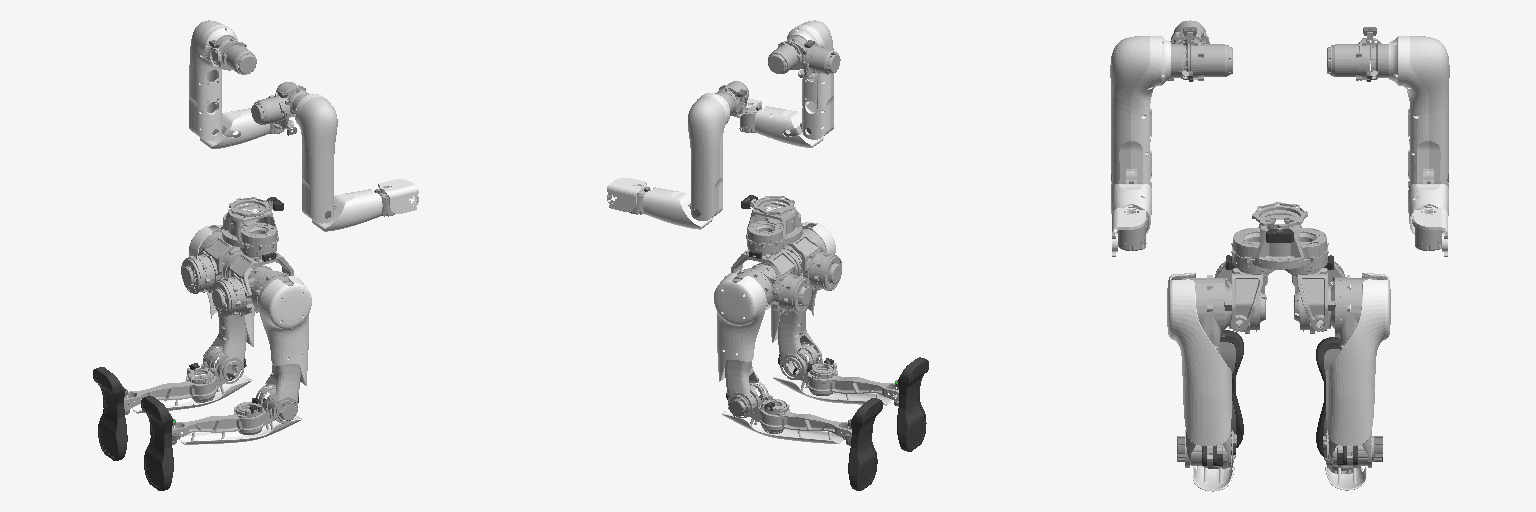
--- What the picture shows (computed from the rendered views, not written in the file) ---
3 views of the same robot in one strip: view 1: azimuth 30°, elevation 25°; view 2: azimuth 150°, elevation 25°; view 3: azimuth 270°, elevation 25° (orthographic).
Robot: DR01_v101 — 35 links, 34 joints (27 revolute, 7 fixed); root link SACRUM; default pose: all joints at 0 but 2 set to mid-range because 0 is outside their limits (Knee_R = 1.52, Knee_L = 1.48).
Visible links, largest first — view 1: THIGH_R, UPPERARM_R, UPPERARM_L, SHANK_L, SHANK_R, SACRUM, THIGH_L, FOOT_R, FOOT_L, ILIUM_R, ILIUM_L, FOREARM_R (+4 smaller); view 2: THIGH_L, UPPERARM_L, SHANK_R, SHANK_L, SACRUM, UPPERARM_R, THIGH_R, FOOT_R, FOOT_L, ILIUM_L, ILIUM_R, FOREARM_L (+5 smaller); view 3: THIGH_R, THIGH_L, UPPERARM_R, UPPERARM_L, SACRUM, ILIUM_R, ILIUM_L, SHANK_R, SHANK_L, SHOULDER_L, SHOULDER_R, FOOT_R (+8 smaller).
Boxes of the visible links, x1,y1,x2,y2 form: THIGH_R: (251,271,311,423); UPPERARM_R: (290,92,337,223); UPPERARM_L: (189,20,237,140); SHANK_L: (124,348,252,413); SHANK_R: (172,387,302,444); SACRUM: (221,197,283,261); THIGH_L: (189,225,254,383); FOOT_R: (141,396,179,490); FOOT_L: (93,367,129,460); ILIUM_R: (212,250,293,316); ILIUM_L: (181,235,261,293); FOREARM_R: (312,189,382,231); THIGH_L: (714,268,772,417); UPPERARM_L: (688,91,734,220); SHANK_R: (773,344,898,405); SHANK_L: (722,383,851,443); SACRUM: (741,195,802,258); UPPERARM_R: (787,20,833,139); THIGH_R: (770,222,835,379); FOOT_R: (894,357,928,451); FOOT_L: (843,398,882,490); ILIUM_L: (731,243,811,313); ILIUM_R: (761,232,841,290); FOREARM_L: (643,187,712,229); THIGH_R: (1167,273,1232,467); THIGH_L: (1326,273,1390,467); UPPERARM_R: (1110,36,1192,187); UPPERARM_L: (1367,36,1449,187); SACRUM: (1226,202,1333,274); ILIUM_R: (1214,261,1272,331); ILIUM_L: (1287,261,1344,331); SHANK_R: (1186,431,1236,491); SHANK_L: (1323,433,1373,490); SHOULDER_L: (1327,27,1381,80); SHOULDER_R: (1178,27,1232,80); FOOT_R: (1220,330,1243,447).
Bounding box of the posed robot: 0.6737 × 0.6499 × 1.07 m (x, y, z).
24 mesh visuals loaded from 26 distinct referenced files (22 Collada DAE); not drawn: 4 (reference not matched to a file when rendering).

The robot description file, URDF, robot "DR01_v101":
<?xml version='1.0' encoding='utf-8'?>
<robot name="DR01_v101">
  <link name="SACRUM">
    <inertial>
      <origin xyz="0.0010 -2.1928E-05 -0.0252" />
      <mass value="3.2422" />
      <inertia ixx="0.0101" ixy="-8.7E-07" ixz="-0.0002" iyy="0.0055" iyz="-2.8E-07" izz="0.0100" />
    </inertial>
    <visual>
      <geometry>
        <mesh filename="../meshes/SACRUM.dae" />
      </geometry>
    </visual>
  </link>

  <link name="ILIUM_R">
    <inertial>
      <origin xyz="-0.0752 -0.0297 0.0117" />
      <mass value="1.6695" />
      <inertia ixx="0.0031" ixy="-0.0003" ixz="-0.0014" iyy="0.0064" iyz="-0.0003" izz="0.0054" />
    </inertial>
    <visual>
      <geometry>
        <mesh filename="../meshes/ILIUM_R.dae" />
      </geometry>
    </visual>
    <collision>
      <origin xyz="-0.129 -0.032 0" rpy="0 1.57 0" />
      <geometry>
        <cylinder length="0.02" radius="0.046" />
      </geometry>
    </collision>
  </link>

  <joint name="Hip_Z_R" type="revolute">
    <origin xyz="0 -0.045 -0.1505" />
    <parent link="SACRUM" />
    <child link="ILIUM_R" />
    <axis xyz="0 0 -1" />
    <limit lower="-0.21" upper="0.216" effort="84" velocity="7.85" />
    <dynamics damping="0" friction="0" />
  </joint>

  <link name="ISCHIUM_R">
    <inertial>
      <origin xyz="-0.0061 0.0083 -0.0004" />
      <mass value="1.489" />
      <inertia ixx="0.0012" ixy="-8.78E-05" ixz="0" iyy="0.0022" iyz="-7.68E-06" izz="0.0017" />
    </inertial>
    <visual>
      <geometry>
        <mesh filename="../meshes/ISCHIUM_R.dae" />
      </geometry>
    </visual>
  </link>

  <joint name="Hip_X_R" type="revolute">
    <origin xyz="0 -0.0325 0" />
    <parent link="ILIUM_R" />
    <child link="ISCHIUM_R" />
    <axis xyz="-1 0 0" />
    <limit lower="-0.204" upper="0.370" effort="84" velocity="7.85" />
    <dynamics damping="0" friction="0" />
  </joint>

  <link name="THIGH_R">
    <inertial>
      <origin xyz="0.0048 -0.0279 -0.0394" />
      <mass value="3.5319" />
      <inertia ixx="0.0286" ixy="-0.0001" ixz="0.0018" iyy="0.0293" iyz="0.0014" izz="0.0059" />
    </inertial>
    <visual>
      <geometry>
        <mesh filename="../meshes/THIGH_R.dae" />
      </geometry>
    </visual>
    <collision>
      <origin xyz="0.03 -0.02 -0.18" />
      <geometry>
        <cylinder length="0.23" radius="0.06" />
      </geometry>
    </collision>
    <collision>
      <origin xyz="0 -0.04 0" rpy="1.57 0 0" />
      <geometry>
        <cylinder length="0.10" radius="0.072" />
      </geometry>
    </collision>
  </link>

  <joint name="Hip_Y_R" type="revolute">
    <origin xyz="0 -0.0432 0" />
    <parent link="ISCHIUM_R" />
    <child link="THIGH_R" />
    <axis xyz="0 1 0" />
    <limit lower="-2.215" upper="0.125" effort="84" velocity="7.85" />
    <dynamics damping="0" friction="0" />
  </joint>

  <link name="SHANK_R">
    <inertial>
      <origin xyz="0.0106 -0.0096 -0.0512" />
      <mass value="2.7397" />
      <inertia ixx="0.0149" ixy="-0.0003" ixz="0.0006" iyy="0.0146" iyz="0.0007" izz="0.0032" />
    </inertial>
    <visual>
      <geometry>
        <mesh filename="../meshes/SHANK_R.dae" />
      </geometry>
    </visual>
    <collision>
      <origin xyz="0.02 0 -0.18" rpy="0 0.3 0" />
      <geometry>
        <cylinder length="0.14" radius="0.02" />
      </geometry>
    </collision>
    <collision>
      <origin xyz="0.03 0 -0.08" rpy="0 1.57 0" />
      <geometry>
        <cylinder length="0.06" radius="0.038" />
      </geometry>
    </collision>
  </link>

  <joint name="Knee_R" type="revolute">
    <origin xyz="0 0 -0.3" />
    <parent link="THIGH_R" />
    <child link="SHANK_R" />
    <axis xyz="0 1 0" />
    <limit lower="0.34" upper="2.70" effort="180" velocity="12" />
    <dynamics damping="0" friction="0" />
  </joint>

  <link name="ASTRAGALUS_R">
    <inertial>
      <origin xyz="-0.0144 -3.454E-05 0.0058" />
      <mass value="0.0686" />
      <inertia ixx="8.86E-06" ixy="-2E-08" ixz="5.49E-07" iyy="0" iyz="4E-08" izz="0" />
    </inertial>
    <visual>
      <geometry>
        <mesh filename="../meshes/ASTRAGALUS.dae" />
      </geometry>
    </visual>
  </link>

  <joint name="Ankle_Y_R" type="revolute">
    <origin xyz="0 0 -0.3" />
    <parent link="SHANK_R" />
    <child link="ASTRAGALUS_R" />
    <axis xyz="0 1 0" />
    <limit lower="-1.0" upper="0.19" effort="200" velocity="14.65" />
    <dynamics damping="0" friction="0" />
  </joint>

  <link name="FOOT_R">
    <inertial>
      <origin xyz="-5.1084E-10 -0.0011 -0.0247" />
      <mass value="0.2330" />
      <inertia ixx="0.0001" ixy="-2.5096E-10" ixz="8.0022E-13" iyy="0.0006" iyz="3.92E-06" izz="0.0007" />
    </inertial>
    <visual>
      <geometry>
        <mesh filename="../meshes/FOOT_R.dae" />
      </geometry>
    </visual>
  </link>

  <joint name="Ankle_X_R" type="revolute">
    <parent link="ASTRAGALUS_R" />
    <child link="FOOT_R" />
    <axis xyz="-1 0 0" />
    <limit lower="-0.20" upper="0.24" effort="200" velocity="14.65" />
    <dynamics damping="0" friction="0" />
  </joint>

  <link name="TIPTOE_R">
    <inertial>
      <origin xyz="0.001 0.001 -0.0053" />
      <mass value="0.1929" />
      <inertia ixx="0.0001" ixy="0" ixz="0" iyy="0.0008" iyz="0" izz="0.0009" />
    </inertial>
    <collision>
      <origin xyz="0.02 0 -0.01" />
      <geometry>
        <box size="0.24 0.08 0.03" />
      </geometry>
    </collision>
  </link>

  <joint name="Ankle_Z_R" type="fixed">
    <origin xyz="0 0 -0.031" />
    <parent link="FOOT_R" />
    <child link="TIPTOE_R" />
  </joint>

  <link name="ILIUM_L">
    <inertial>
      <origin xyz="-0.0752 0.0297 0.0118" />
      <mass value="1.6675" />
      <inertia ixx="0.0031" ixy="0.0003" ixz="-0.0014" iyy="0.0064" iyz="0.0003" izz="0.0054" />
    </inertial>
    <visual>
      <geometry>
        <mesh filename="../meshes/ILIUM_L.dae" />
      </geometry>
    </visual>
    <collision>
      <origin xyz="-0.129 0.032 0" rpy="0 1.57 0" />
      <geometry>
        <cylinder length="0.02" radius="0.046" />
      </geometry>
    </collision>
  </link>

  <joint name="Hip_Z_L" type="revolute">
    <origin xyz="0 0.045 -0.1505" />
    <parent link="SACRUM" />
    <child link="ILIUM_L" />
    <axis xyz="0 0 1" />
    <limit lower="-0.21" upper="0.21" effort="84" velocity="7.85" />
    <dynamics damping="0" friction="0" />
  </joint>

  <link name="ISCHIUM_L">
    <inertial>
      <origin xyz="-0.0061 -0.0083 -0.0005" />
      <mass value="1.489" />
      <inertia ixx="0.0012" ixy="0.0001" ixz="0" iyy="0.0022" iyz="0" izz="0.0017" />
    </inertial>
    <visual>
      <geometry>
        <mesh filename="../meshes/ISCHIUM_L.dae" />
      </geometry>
    </visual>
  </link>

  <joint name="Hip_X_L" type="revolute">
    <origin xyz="0 0.0325 0" />
    <parent link="ILIUM_L" />
    <child link="ISCHIUM_L" />
    <axis xyz="1 0 0" />
    <limit lower="-0.21" upper="0.370" effort="84" velocity="7.85" />
    <dynamics damping="0" friction="0" />
  </joint>

  <link name="THIGH_L">
    <inertial>
      <origin xyz="0.0048 0.0299 -0.0397" />
      <mass value="3.5416" />
      <inertia ixx="0.0287" ixy="0.0001" ixz="0.0018" iyy="0.0295" iyz="-0.0014" izz="0.0059" />
    </inertial>
    <visual>
      <geometry>
        <mesh filename="../meshes/THIGH_L.dae" />
      </geometry>
    </visual>
    <collision>
      <origin xyz="0.03 0.02 -0.18" />
      <geometry>
        <cylinder length="0.23" radius="0.06" />
      </geometry>
    </collision>
    <collision>
      <origin xyz="0 0.04 0" rpy="1.57 0 0" />
      <geometry>
        <cylinder length="0.10" radius="0.072" />
      </geometry>
    </collision>
  </link>

  <joint name="Hip_Y_L" type="revolute">
    <origin xyz="0 0.0432 0" />
    <parent link="ISCHIUM_L" />
    <child link="THIGH_L" />
    <axis xyz="0 1 0" />
    <limit lower="-2.207" upper="0.462" effort="84" velocity="7.85" />
    <dynamics damping="0" friction="0" />
  </joint>

  <link name="SHANK_L">
    <inertial>
      <origin xyz="0.0109 0.0095 -0.0522" />
      <mass value="2.7463" />
      <inertia ixx="0.0150" ixy="0.0003" ixz="0.0006" iyy="0.0146" iyz="-0.0007" izz="0.0033" />
    </inertial>
    <visual>
      <geometry>
        <mesh filename="../meshes/SHANK_L.dae" />
      </geometry>
    </visual>
    <collision>
      <origin xyz="0.02 0 -0.18" rpy="0 0.3 0" />
      <geometry>
        <cylinder length="0.14" radius="0.02" />
      </geometry>
    </collision>
    <collision>
      <origin xyz="0.03 0 -0.08" rpy="0 1.57 0" />
      <geometry>
        <cylinder length="0.06" radius="0.038" />
      </geometry>
    </collision>
  </link>

  <joint name="Knee_L" type="revolute">
    <origin xyz="0 0 -0.3" />
    <parent link="THIGH_L" />
    <child link="SHANK_L" />
    <axis xyz="0 1 0" />
    <limit lower="0.30" upper="2.65" effort="180" velocity="12" />
    <dynamics damping="0" friction="0" />
  </joint>

  <link name="ASTRAGALUS_L">
    <inertial>
      <origin xyz="-0.0144 -3.4496E-05 0.0058" />
      <mass value="0.0686" />
      <inertia ixx="8.86E-06" ixy="-2E-08" ixz="5.49E-06" iyy="0" iyz="4E-08" izz="0" />
    </inertial>
    <visual>
      <geometry>
        <mesh filename="../meshes/ASTRAGALUS.dae" />
      </geometry>
    </visual>
  </link>

  <joint name="Ankle_Y_L" type="revolute">
    <origin xyz="0 0 -0.3" />
    <parent link="SHANK_L" />
    <child link="ASTRAGALUS_L" />
    <axis xyz="0 1 0" />
    <limit lower="-1.0" upper="0.154" effort="200" velocity="14.65" />
    <dynamics damping="0" friction="0" />
  </joint>

  <link name="FOOT_L">
    <inertial>
      <origin xyz="1.1755E-08 0.0011 -0.0247" />
      <mass value="0.2330" />
      <inertia ixx="0.0001" ixy="-2.5096E-10" ixz="-8.0022E-13" iyy="0.0006" iyz="-3.9216E-06" izz="0.0007" />
    </inertial>
    <visual>
      <geometry>
        <mesh filename="../meshes/FOOT_L.dae" />
      </geometry>
    </visual>
  </link>

  <joint name="Ankle_X_L" type="revolute">
    <parent link="ASTRAGALUS_L" />
    <child link="FOOT_L" />
    <axis xyz="1 0 0" />
    <limit lower="-0.207" upper="0.23" effort="200" velocity="14.65" />
    <dynamics damping="0" friction="0" />
  </joint>

  <link name="TIPTOE_L">
    <inertial>
      <origin xyz="0 0 -0.0053" />
      <mass value="0.1929" />
      <inertia ixx="0.0001" ixy="0" ixz="0" iyy="0.0008" iyz="0" izz="0.0009" />
    </inertial>
    <collision>
      <origin xyz="0.02 0 -0.01" />
      <geometry>
        <box size="0.24 0.08 0.03" />
      </geometry>
    </collision>
  </link>

  <joint name="Ankle_Z_L" type="fixed">
    <origin xyz="0 0 -0.031" />
    <parent link="FOOT_L" />
    <child link="TIPTOE_L" />
  </joint>

  <link name="TORSO">
    <inertial>
      <origin xyz="0.0027 0.0001 0.1822" />
      <mass value="15.944" />
      <inertia ixx="0.1635" ixy="-0.0001" ixz="-0.0004" iyy="0.0802" iyz="0" izz="0.1156" />
    </inertial>
    <visual>
      <geometry>
        <mesh filename="../meshes/TORSO.dae" />
      </geometry>
    </visual>
    <collision>
      <origin xyz="0 0 0.15" />
      <geometry>
        <box size="0.2 0.31 0.48" />
      </geometry>
    </collision>
    <collision>
      <origin xyz="0 0 0.57" />
      <geometry>
        <sphere radius="0.08" />
      </geometry>
    </collision> 
    <collision>
      <origin xyz="0.04 0 0.51" rpy="0 -0.22 0" />
      <geometry>
        <cylinder length="0.08" radius="0.045" />
      </geometry>
    </collision>
  </link>

  <joint name="Waist" type="revolute">
    <origin xyz="0 0 0.0465" />
    <parent link="SACRUM" />
    <child link="TORSO" />
    <axis xyz="0 0 1" />
    <limit lower="-0.698" upper="0.698" effort="84" velocity="7.85" />
    <dynamics damping="0" friction="0" />
  </joint>

  <link name="SCAPULA_R">
    <inertial>
      <origin xyz="-0.0363 -0.0004 0.0520"  />
      <mass value="0.9695" />
      <inertia ixx="0.0008" ixy="0" ixz="0.0001" iyy="0.0010" iyz="0" izz="0.0009" />
    </inertial>
    <visual>
      <geometry>
        <mesh filename="../meshes/SCAPULA_R.dae" />
      </geometry>
    </visual>
  </link>

  <joint name="Shoulder_Z_R" type="revolute">
    <origin xyz="0 -0.1725 0.3458" />
    <parent link="TORSO" />
    <child link="SCAPULA_R" />
    <axis xyz="0 0 -1" />
    <limit lower="-0.366" upper="0.366" effort="100" velocity="4.1" />
    <dynamics damping="0" friction="0" />
  </joint>

  <link name="SHOULDER_R">
    <inertial>
      <origin xyz="0.0445 0.0362 0.0004"  />
      <mass value="0.9738" />
      <inertia ixx="0.0010" ixy="-0.0001" ixz="0" iyy="0.0008" iyz="0" izz="0.0010" />
    </inertial>
    <visual>
      <geometry>
        <mesh filename="../meshes/SHOULDER_R.dae" />
      </geometry>
    </visual>
  </link>

  <joint name="Shoulder_X_R" type="revolute">
    <origin xyz="0.0473 0 0" />
    <parent link="SCAPULA_R" />
    <child link="SHOULDER_R" />
    <axis xyz="-1 0 0" />
    <limit lower="-0.366" upper="0.366" effort="100" velocity="4.1" />
    <dynamics damping="0" friction="0" />
  </joint>

  <link name="UPPERARM_R">
    <inertial>
      <origin xyz="-0.0047 -0.0690 -0.0353"  />
      <mass value="1.4558" />
      <inertia ixx="0.0109" ixy="-0.0006" ixz="-0.0009" iyy="0.0097" iyz="-0.0020" izz="0.0036" />
    </inertial>
    <visual>
      <geometry>
        <mesh filename="../meshes/UPPERARM_R.dae" />
      </geometry>
    </visual>
    <collision>
      <origin xyz="0 0 -0.125"  />
      <geometry>
        <box size="0.075 0.07 0.25" />
      </geometry>
    </collision> 
    <collision>
      <origin xyz="0 0 0" rpy="1.57 0 0" />
      <geometry>
        <cylinder length="0.08" radius="0.045" />
      </geometry>
    </collision>
  </link>

  <joint name="Shoulder_Y_R" type="revolute">
    <origin xyz="0 -0.1119 0" />
    <parent link="SHOULDER_R" />
    <child link="UPPERARM_R" />
    <axis xyz="0 1 0" />
    <limit lower="-1.788" upper="0.714" effort="28" velocity="14.65" />
    <dynamics damping="0" friction="0" />
  </joint>

  <link name="FOREARM_R">
    <inertial>
      <origin xyz="0.1028 -3.8955E-05 -0.0192"  />
      <mass value="0.8906" />
      <inertia ixx="0.0068" ixy="-0.0012" ixz="0.0015" iyy="0.0057" iyz="0.0029" izz="0.0035" />
    </inertial>
    <visual>
      <geometry>
        <mesh filename="../meshes/FOREARM_R.dae" />
      </geometry>
    </visual>
    <collision>
      <origin xyz="0.1 0 -0.02" rpy="0 1.57 0" />
      <geometry>
        <cylinder length="0.085" radius="0.033" />
      </geometry>
    </collision> 
  </link>

  <joint name="Elbow_R" type="revolute">
    <origin xyz="0 0 -0.25" />
    <parent link="UPPERARM_R" />
    <child link="FOREARM_R" />
    <axis xyz="0 1 0" />
    <limit lower="-1.274" upper="0.923" effort="28" velocity="14.65" />
    <dynamics damping="0" friction="0" />
  </joint>

  <link name="RADIOCARPAL_R">
    <inertial>
      <origin xyz="0.0467 -2.5524E-05 0.0015"  />
      <mass value="0.5548" />
      <inertia ixx="0.0003" ixy="0" ixz="0" iyy="0.0003" iyz="0" izz="0.0004" />
    </inertial>
    <visual>
      <geometry>
        <mesh filename="../meshes/RADIOCARPAL.dae" />
      </geometry>
    </visual>
  </link>

  <joint name="Wrist_X_R" type="revolute">
    <origin xyz="0.1875 0 -0.02" />
    <parent link="FOREARM_R" />
    <child link="RADIOCARPAL_R" />
    <axis xyz="-1 0 0" />
    <limit lower="-0.366" upper="0.366" effort="28" velocity="4.1" />
  </joint>

  <link name="LUNCATE_R">
    <inertial>
      <origin xyz="0.0285 -0.0203 0.0188"  />
      <mass value="0.8817" />
      <inertia ixx="0" ixy="0" ixz="0" iyy="0.0001" iyz="0" izz="0.0001" />
    </inertial>
    <visual>
      <geometry>
        <mesh filename="../meshes/LUNCATE_R.dae" />
      </geometry>
    </visual>
    <collision>
      <geometry>
        <cylinder length="0.062" radius="0.027" />
      </geometry>
    </collision> 
  </link>

  <joint name="Wrist_Z_R" type="revolute">
    <parent link="RADIOCARPAL_R" />
    <child link="LUNCATE_R" />
    <axis xyz="0 0 -1" />
    <limit lower="-0.366" upper="0.366" effort="28" velocity="4.1" />
  </joint>

  <link name="TRIQUETRUM_R">
    <inertial>
      <origin xyz="0.0489 -0.0023 0.0010"  />
      <mass value="1.1640" />
      <inertia ixx="0.0036" ixy="0.0014" ixz="-0.0001" iyy="0.0065" iyz="-0.0001" izz="0.0076" />
    </inertial>
    <visual>
      <geometry>
        <mesh filename="../meshes/TRIQUETRUM_R.dae" />
      </geometry>
    </visual>
    <collision>
      <origin  rpy="1.57 0 0" />
      <geometry>
        <cylinder length="0.062" radius="0.027" />
      </geometry>
    </collision> 
    <collision>
      <origin xyz="0.115 0 0" rpy="1.57 0 0" />
      <geometry>
        <box size="0.16 0.073 0.035" />
      </geometry>
    </collision> 
    <collision>
      <origin xyz="0.115 0.045 0.03" rpy="0 -0.36 0.6" />
      <geometry>
        <box size="0.088 0.015 0.015" />
      </geometry>
    </collision> 
  </link>

  <joint name="Wrist_Y_R" type="revolute">
    <origin xyz="0.057 0 0" />
    <parent link="LUNCATE_R" />
    <child link="TRIQUETRUM_R" />
    <axis xyz="0 1 0" />
    <limit lower="-0.766" upper="0.766" effort="28" velocity="4.1" />
  </joint>

  <link name="HAND_R">
    <inertial>
      <origin xyz="-0.0243 0.0105 0.0031" />
      <mass value="0.2589" />
      <inertia ixx="7.6765E-05" ixy="-2.4040E-06" ixz="-2.1977E-06" iyy="0.0001" iyz="-2.7614E-08" izz="8.6697E-05" />
    </inertial>
  </link>

  <joint name="Wrist_Fix_R" type="fixed">
    <origin xyz="0.1535 0 0" />
    <parent link="TRIQUETRUM_R" />
    <child link="HAND_R" />
  </joint>

  <link name="WRIST_CAMERA_R">
    <inertial>
      <origin xyz="0.0099 -7.1416E-05 0" />
      <mass value="0.1" />
      <inertia ixx="0.0001" ixy="0.0001" ixz="0.0001" iyy="0.0001" iyz="0.0001" izz="0.0001" />
    </inertial>
  </link>

  <joint name="Bracelet_R" type="fixed">
    <origin xyz="0.0430 -0.0560 0" rpy="1.5708 0 0" />
    <parent link="TRIQUETRUM_R" />
    <child link="WRIST_CAMERA_R" />
  </joint>

  <link name="SCAPULA_L">
    <inertial>
      <origin xyz="-0.0363 0.0002 0.0520"  />
      <mass value="0.9695" />
      <inertia ixx="0.0008" ixy="0" ixz="0.0001" iyy="0.0010" iyz="0" izz="0.0009" />
    </inertial>
    <visual>
      <geometry>
        <mesh filename="../meshes/SCAPULA_L.dae" />
      </geometry>
    </visual>
  </link>

  <joint name="Shoulder_Z_L" type="revolute">
    <origin xyz="0 0.1725 0.3458" />
    <parent link="TORSO" />
    <child link="SCAPULA_L" />
    <axis xyz="0 0 1" />
    <limit lower="-0.366" upper="0.366" effort="100" velocity="4.1" />
    <dynamics damping="0" friction="0" />
  </joint>

  <link name="SHOULDER_L">
    <inertial>
      <origin xyz="0.0445 -0.0362 0.0003"  />
      <mass value="0.9738" />
      <inertia ixx="0.0010" ixy="0.0001" ixz="0" iyy="0.0008" iyz="0" izz="0.0010" />
    </inertial>
    <visual>
      <geometry>
        <mesh filename="../meshes/SHOULDER_L.dae" />
      </geometry>
    </visual>
  </link>

  <joint name="Shoulder_X_L" type="revolute">
    <origin xyz="0.0473 0 0" />
    <parent link="SCAPULA_L" />
    <child link="SHOULDER_L" />
    <axis xyz="1 0 0" />
    <limit lower="-0.366" upper="0.366" effort="100" velocity="4.1" />
    <dynamics damping="0" friction="0" />
  </joint>

  <link name="UPPERARM_L">
    <inertial>
      <origin xyz="-0.0049 0.0691 -0.0349"  />
      <mass value="1.4547" />
      <inertia ixx="0.0107" ixy="0.0006" ixz="-0.0009" iyy="0.0096" iyz="0.0020" izz="0.0035" />
    </inertial>
    <visual>
      <geometry>
        <mesh filename="../meshes/UPPERARM_L.dae" />
      </geometry>
    </visual>
    <collision>
      <origin xyz="0 0 -0.125"  />
      <geometry>
        <box size="0.075 0.07 0.25" />
      </geometry>
    </collision> 
    <collision>
      <origin xyz="0 0 0" rpy="1.57 0 0" />
      <geometry>
        <cylinder length="0.08" radius="0.045" />
      </geometry>
    </collision>
  </link>

  <joint name="Shoulder_Y_L" type="revolute">
    <origin xyz="0 0.1121 0" />
    <parent link="SHOULDER_L" />
    <child link="UPPERARM_L" />
    <axis xyz="0 1 0" />
    <limit lower="-1.788" upper="0.714" effort="28" velocity="14.65" />
    <dynamics damping="0" friction="0" />
  </joint>

  <link name="FOREARM_L">
    <inertial>
      <origin xyz="0.1028 1.7857E-05 -0.0191"  />
      <mass value="0.8906" />
      <inertia ixx="0.0003" ixy="0" ixz="0.0001" iyy="0.0009" iyz="0" izz="0.0009" />
    </inertial>
    <visual>
      <geometry>
        <mesh filename="../meshes/FOREARM_L.dae" />
      </geometry>
    </visual>
    <collision>
      <origin xyz="0.1 0 -0.02" rpy="0 1.57 0" />
      <geometry>
        <cylinder length="0.085" radius="0.033" />
      </geometry>
    </collision> 
  </link>

  <joint name="Elbow_L" type="revolute">
    <origin xyz="0 0 -0.25" />
    <parent link="UPPERARM_L" />
    <child link="FOREARM_L" />
    <axis xyz="0 1 0" />
    <limit lower="-1.274" upper="0.923" effort="28" velocity="14.65" />
    <dynamics damping="0" friction="0" />
  </joint>

  <link name="RADIOCARPAL_L">
    <inertial>
      <origin xyz="0.0467 7.7026E-05 0.0015"  />
      <mass value="0.5548" />
      <inertia ixx="0.0003" ixy="0" ixz="0" iyy="0.0003" iyz="0" izz="0.0004" />
    </inertial>
    <visual>
      <geometry>
        <mesh filename="../meshes/RADIOCARPAL.dae" />
      </geometry>
    </visual>
  </link>

  <joint name="Wrist_X_L" type="revolute">
    <origin xyz="0.1875 0 -0.02" />
    <parent link="FOREARM_L" />
    <child link="RADIOCARPAL_L" />
    <axis xyz="1 0 0" />
    <limit lower="-0.366" upper="0.366" effort="28" velocity="4.1" />
  </joint>

  <link name="LUNCATE_L">
    <inertial>
      <origin xyz="0.0285 0.0203 0.0188"  />
      <mass value="0.8817" />
      <inertia ixx="0.0001" ixy="-0.0001" ixz="0" iyy="0.0002" iyz="0" izz="0.0002" />
    </inertial>
    <visual>
      <geometry>
        <mesh filename="../meshes/LUNCATE_L.dae" />
      </geometry>
    </visual>
    <collision>
      <geometry>
        <cylinder length="0.062" radius="0.027" />
      </geometry>
    </collision> 
  </link>

  <joint name="Wrist_Z_L" type="revolute">
    <parent link="RADIOCARPAL_L" />
    <child link="LUNCATE_L" />
    <axis xyz="0 0 1" />
    <limit lower="-0.366" upper="0.366" effort="28" velocity="4.1" />
  </joint>

  <link name="TRIQUETRUM_L">
    <inertial>
      <origin xyz="0.0488 -0.0002 0.0011"  />
      <mass value="1.1604" />
      <inertia ixx="0.0006" ixy="0.0003" ixz="-0.0001" iyy="0.0041" iyz="0.0001" izz="0.0041" />
    </inertial>
    <visual>
      <geometry>
        <mesh filename="../meshes/TRIQUETRUM_L.dae" />
      </geometry>
    </visual>
    <collision>
      <origin xyz="0.115 0 0" rpy="1.57 0 0" />
      <geometry>
        <box size="0.16 0.073 0.035" />
      </geometry>
    </collision> 
    <collision>
      <origin xyz="0.115 -0.045 0.03" rpy="0 -0.36 -0.6" />
      <geometry>
        <box size="0.088 0.015 0.015" />
      </geometry>
    </collision> 
  </link>

  <joint name="Wrist_Y_L" type="revolute">
    <origin xyz="0.057 0 0" />
    <parent link="LUNCATE_L" />
    <child link="TRIQUETRUM_L" />
    <axis xyz="0 1 0" />
    <limit lower="-0.366" upper="0.366" effort="28" velocity="4.1" />
  </joint>

  <link name="HAND_L">
    <inertial>
      <origin xyz="-0.0243 -0.0105 0.0031" />
      <mass value="0.2589" />
      <inertia ixx="7.6764E-05" ixy="2.4042E-06" ixz="-2.1975E-06" iyy="0.0001" iyz="2.7056E-08" izz="8.6696E-05" />
    </inertial>
  </link>

  <joint name="Wrist_Fix_L" type="fixed">
    <origin xyz="0.1535 0 0" />
    <parent link="TRIQUETRUM_L" />
    <child link="HAND_L" />
  </joint>

  <link name="WRIST_CAMERA_L">
    <inertial>
      <origin xyz="-0.0016 -2.2687E-08 -0.0351" />
      <mass value="0.0407" />
      <inertia ixx="3.8657E-05" ixy="-1.1424E-11" ixz="1.0347E-07" iyy="2.7211E-05" iyz="-1.5348E-11" izz="1.2869E-05" />
    </inertial>
  </link>

  <joint name="Bracelet_L" type="fixed">
    <origin xyz="0.0430 0.0560 0" rpy="-1.5708 0 0" />
    <parent link="TRIQUETRUM_L" />
    <child link="WRIST_CAMERA_L" />
  </joint>

  <link name="CHEST_CAMERA">
    <inertial>
      <mass value="0.01" />
      <inertia ixx="2E-5" ixy="1E-13" ixz="-1E-07" iyy="2E-5" iyz="1E-13" izz="2E-5" />
    </inertial>
  </link>

  <joint name="Torso_2_Cam" type="fixed">
    <origin xyz="0.1311 0 0.2134" rpy="0 0.9076 0" />
    <parent link="TORSO" />
    <child link="CHEST_CAMERA" />
  </joint>

</robot>
